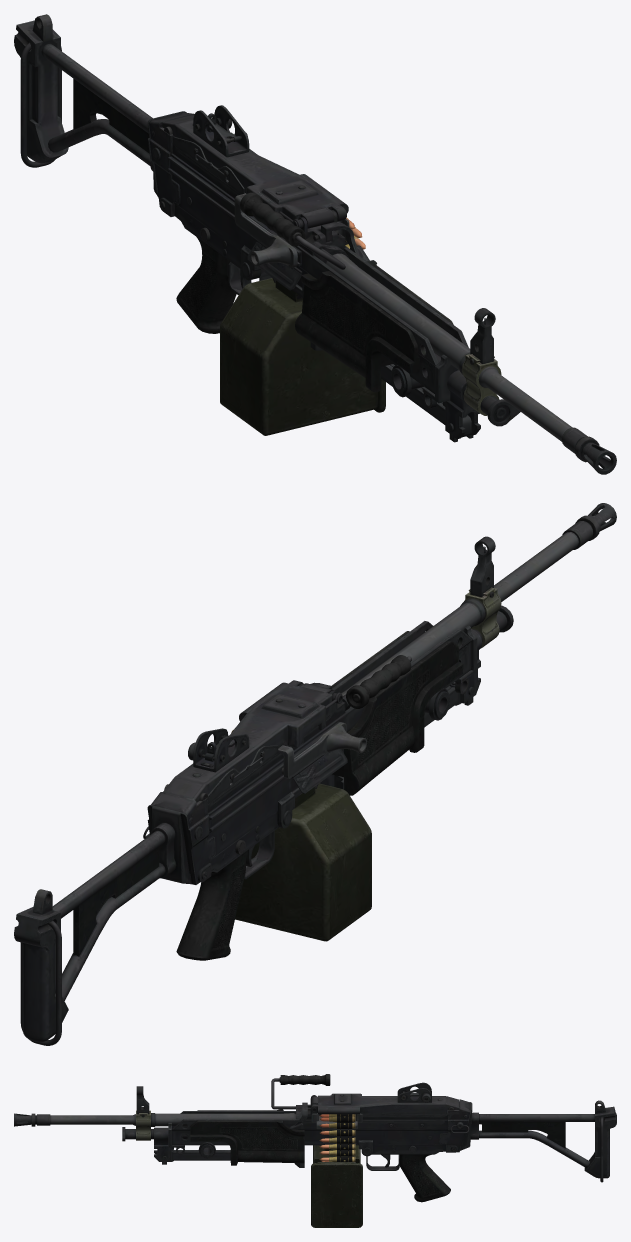
The model's file is w_lmg.glb.
3 views of the same model, one above another, from view 1: azimuth 30°, elevation 25°; view 2: azimuth 150°, elevation 25°; view 3: azimuth 270°, elevation 25° (orthographic). The views are drawn at different scales.
Parts seen in each view (by area): view 1: base, mag, cover, handle, loader, loaderlid, ejector; view 2: base, mag, cover, loader, handle, ejector, loaderlid; view 3: base, mag, cover, handle.
Part boxes in pixels (x1,y1,x2,y2): base: (14,14,616,474); mag: (220,278,385,435); cover: (162,105,348,228); handle: (240,192,345,269); loader: (234,193,297,267); loaderlid: (172,136,244,194); ejector: (247,242,301,290); base: (14,503,616,1045); mag: (235,783,371,941); cover: (163,680,341,802); loader: (278,722,366,778); handle: (346,655,411,708); ejector: (293,749,347,793); loaderlid: (208,745,278,803); base: (14,1086,616,1202); mag: (311,1145,362,1227); cover: (310,1082,459,1117); handle: (271,1074,330,1109).
Size of the model in its own units: 0.1303 by 0.2338 by 1.01.
Materials: 1 (1 with a texture image).
